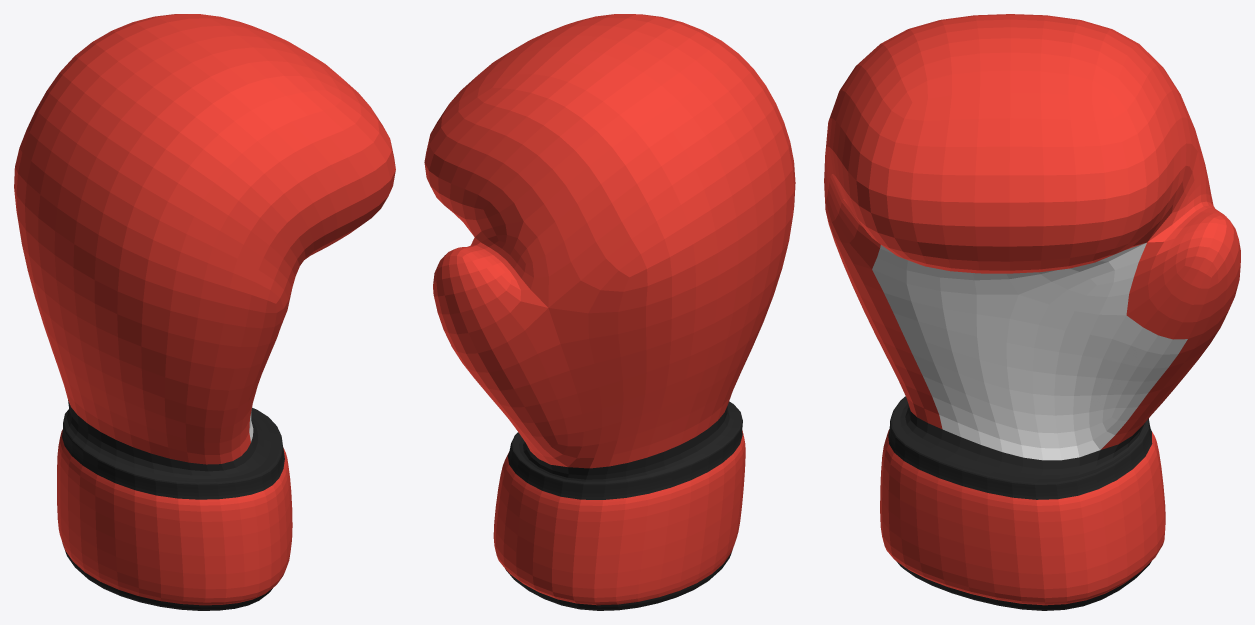
The model's file is BoxingGlove_Right.fbx.
3 views of the same model, side by side, from view 1: azimuth 30°, elevation 25°; view 2: azimuth 150°, elevation 25°; view 3: azimuth 270°, elevation 25° (orthographic). The views are drawn at different scales.
Visible parts, largest first — view 1: BoxingGlove_Right; view 2: BoxingGlove_Right; view 3: BoxingGlove_Right.
Part boxes in pixels (bbox=[...]): BoxingGlove_Right: bbox=[14, 14, 395, 610]; BoxingGlove_Right: bbox=[424, 14, 795, 610]; BoxingGlove_Right: bbox=[824, 14, 1240, 610].
Bounding box in the file's own units: 602 × 1007 × 701.
